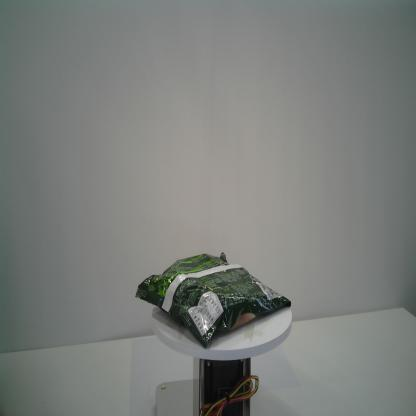Instant Noodles: (135, 251, 291, 349)
